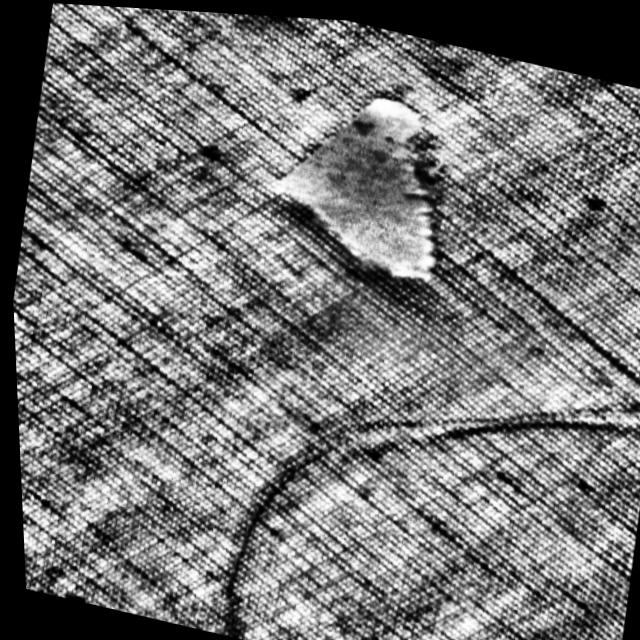Stitch: (197, 307, 640, 640), (258, 68, 467, 288)
